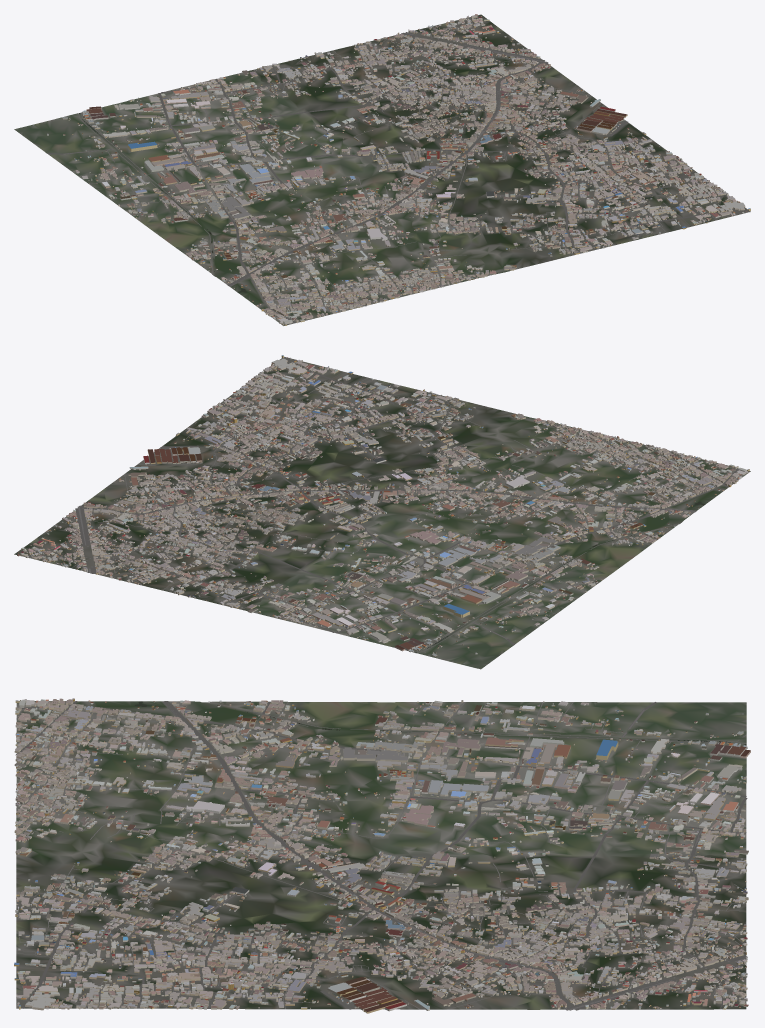
3 views of the same model, one above another, from view 1: azimuth 30°, elevation 25°; view 2: azimuth 150°, elevation 25°; view 3: azimuth 270°, elevation 25° (orthographic). The views are drawn at different scales.
Parts seen in each view (by area): view 1: ground, buildings, roads; view 2: ground, buildings, roads; view 3: ground, buildings, roads.
Boxes of the visible parts, x1,y1,x2,y2 form: ground: (14,14,750,325); buildings: (33,14,750,325); roads: (47,17,748,323); ground: (14,356,750,669); buildings: (17,355,749,663); roads: (24,358,748,656); ground: (16,701,746,1009); buildings: (14,698,750,1013); roads: (15,701,747,1010).
Size of the model in its own units: 2846 by 31.97 by 2828.
